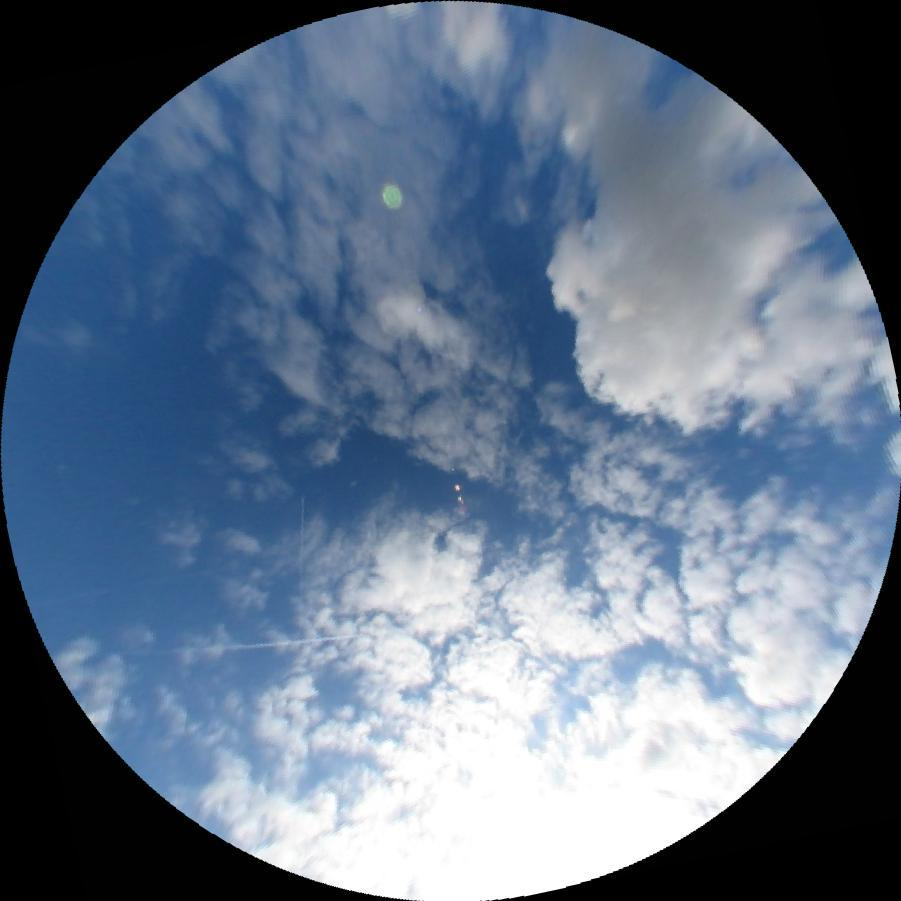contrail young: (122, 632, 362, 657), (297, 495, 305, 602)
sun: (452, 750, 682, 901)
